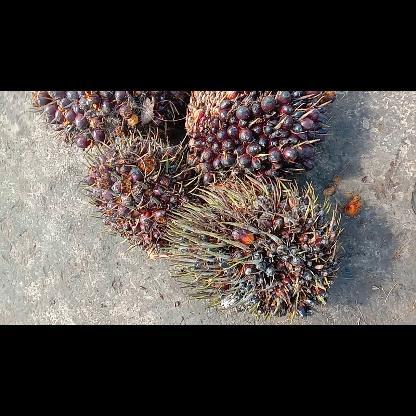Kurang masak: (184, 91, 330, 183), (84, 138, 192, 256)
TBS abnormal: (166, 178, 334, 318)
